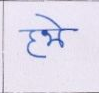e_matra: (35, 14, 63, 28)
